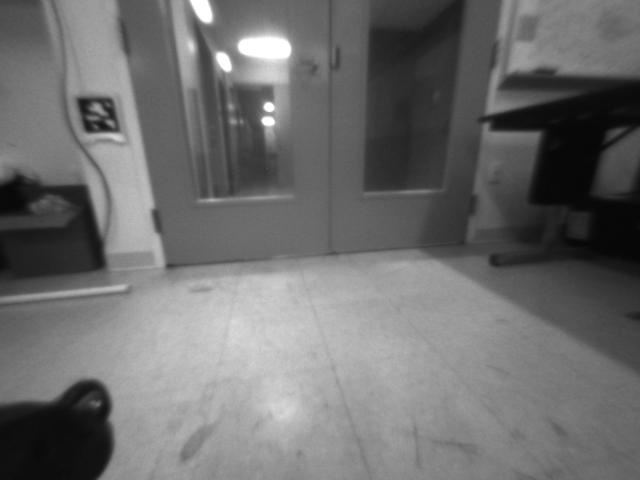door_handle: (286, 54, 322, 76)
